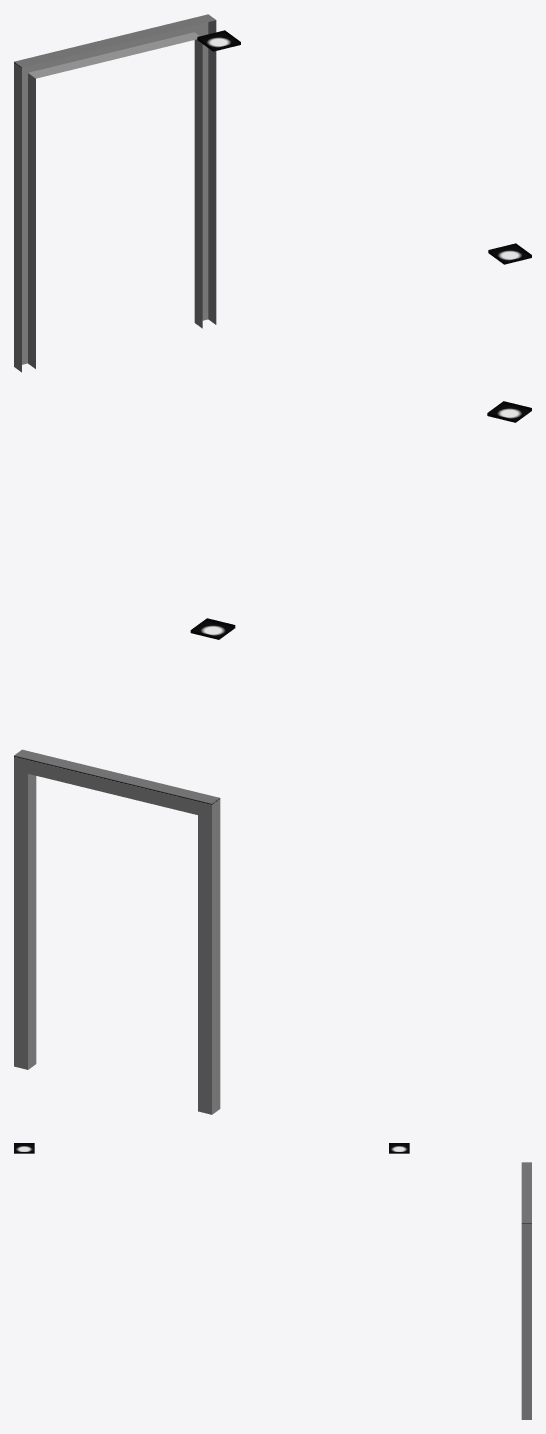
Rendered from ToiletDoorLights.fbx.
3 renders of one model, top to bottom at view 1: azimuth 30°, elevation 25°; view 2: azimuth 150°, elevation 25°; view 3: azimuth 270°, elevation 25°, orthographic. The views are drawn at different scales.
Visible parts, largest first — view 1: TargetApartmentFakeDoor.004, Light.011, Light.012; view 2: TargetApartmentFakeDoor.004; view 3: TargetApartmentFakeDoor.004.
Boxes of the visible parts, x1,y1,x2,y2 form: TargetApartmentFakeDoor.004: [14, 14, 216, 372]; Light.011: [488, 243, 531, 264]; Light.012: [197, 30, 240, 51]; TargetApartmentFakeDoor.004: [14, 749, 220, 1114]; TargetApartmentFakeDoor.004: [521, 1162, 531, 1419].
Bounding box in the file's own units: 140 × 260 × 501.
2 materials, 2 textured.
